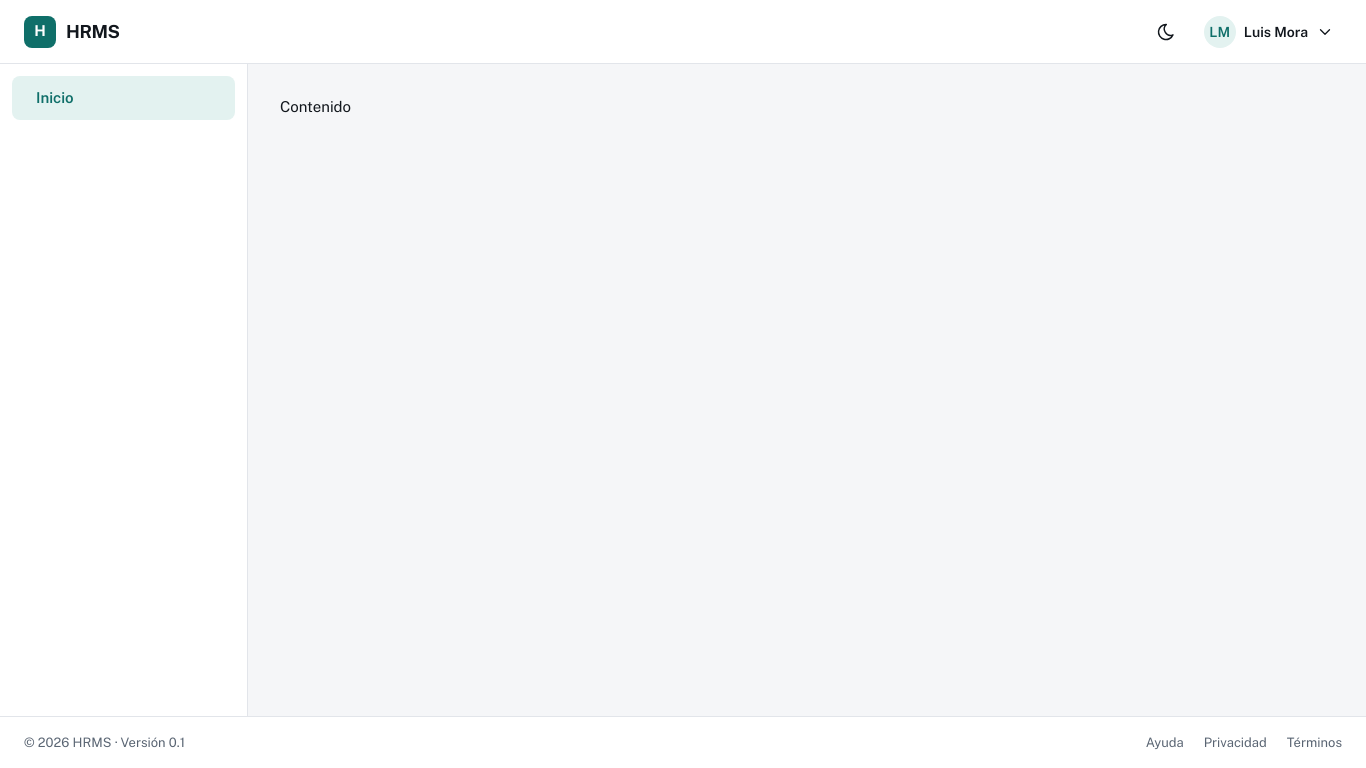
Test case: AppShell › muestra nombre y rol en el menú de usuario
Click the button with aria-label "Menú de usuario: Luis Mora". click: [1269, 32]
box: [1196,10,1342,54]
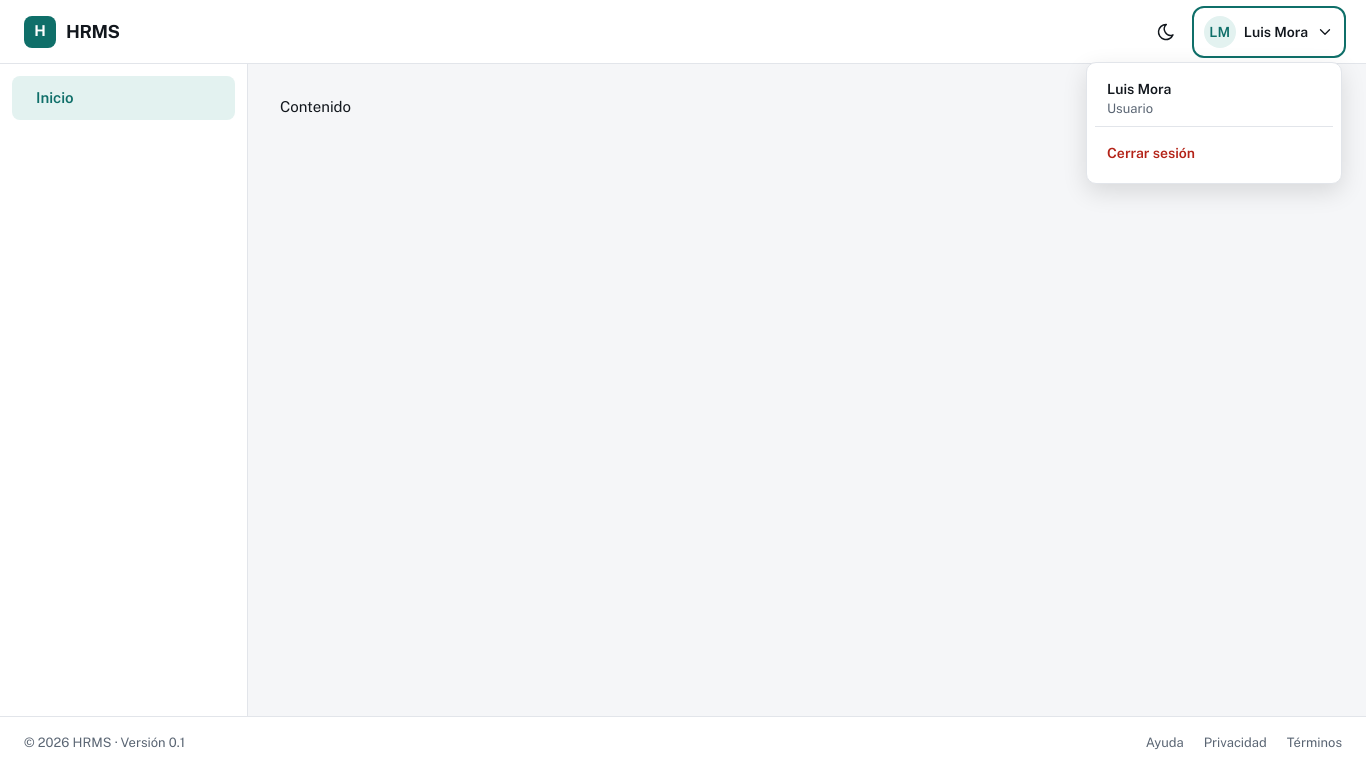
Result: the menu shows "Luis Mora" at [1107,80,1171,96]
Result: the menu shows "Usuario" at [1107,100,1153,116]
